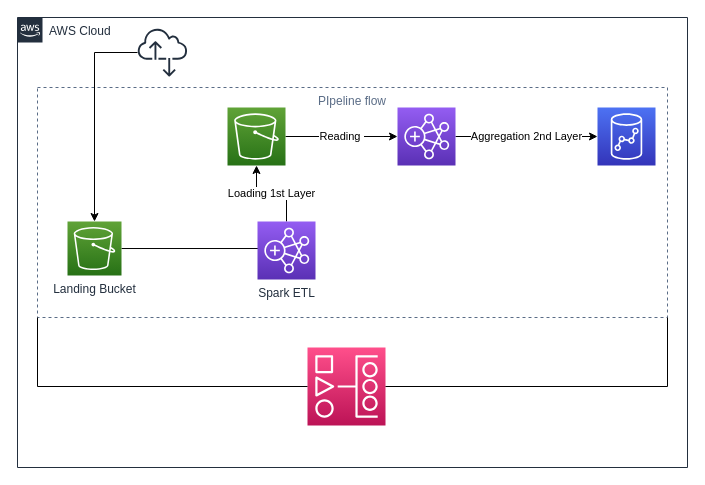
Some shapes in this 705 by 485 pixel diagram are drawn without their labels. Here are the shapes that lost their labels. From the top down, the centre of each, then its label:
At (x=162, y=52): "Scrapped Data from PlayStore".
At (x=346, y=386): "Airflow".
